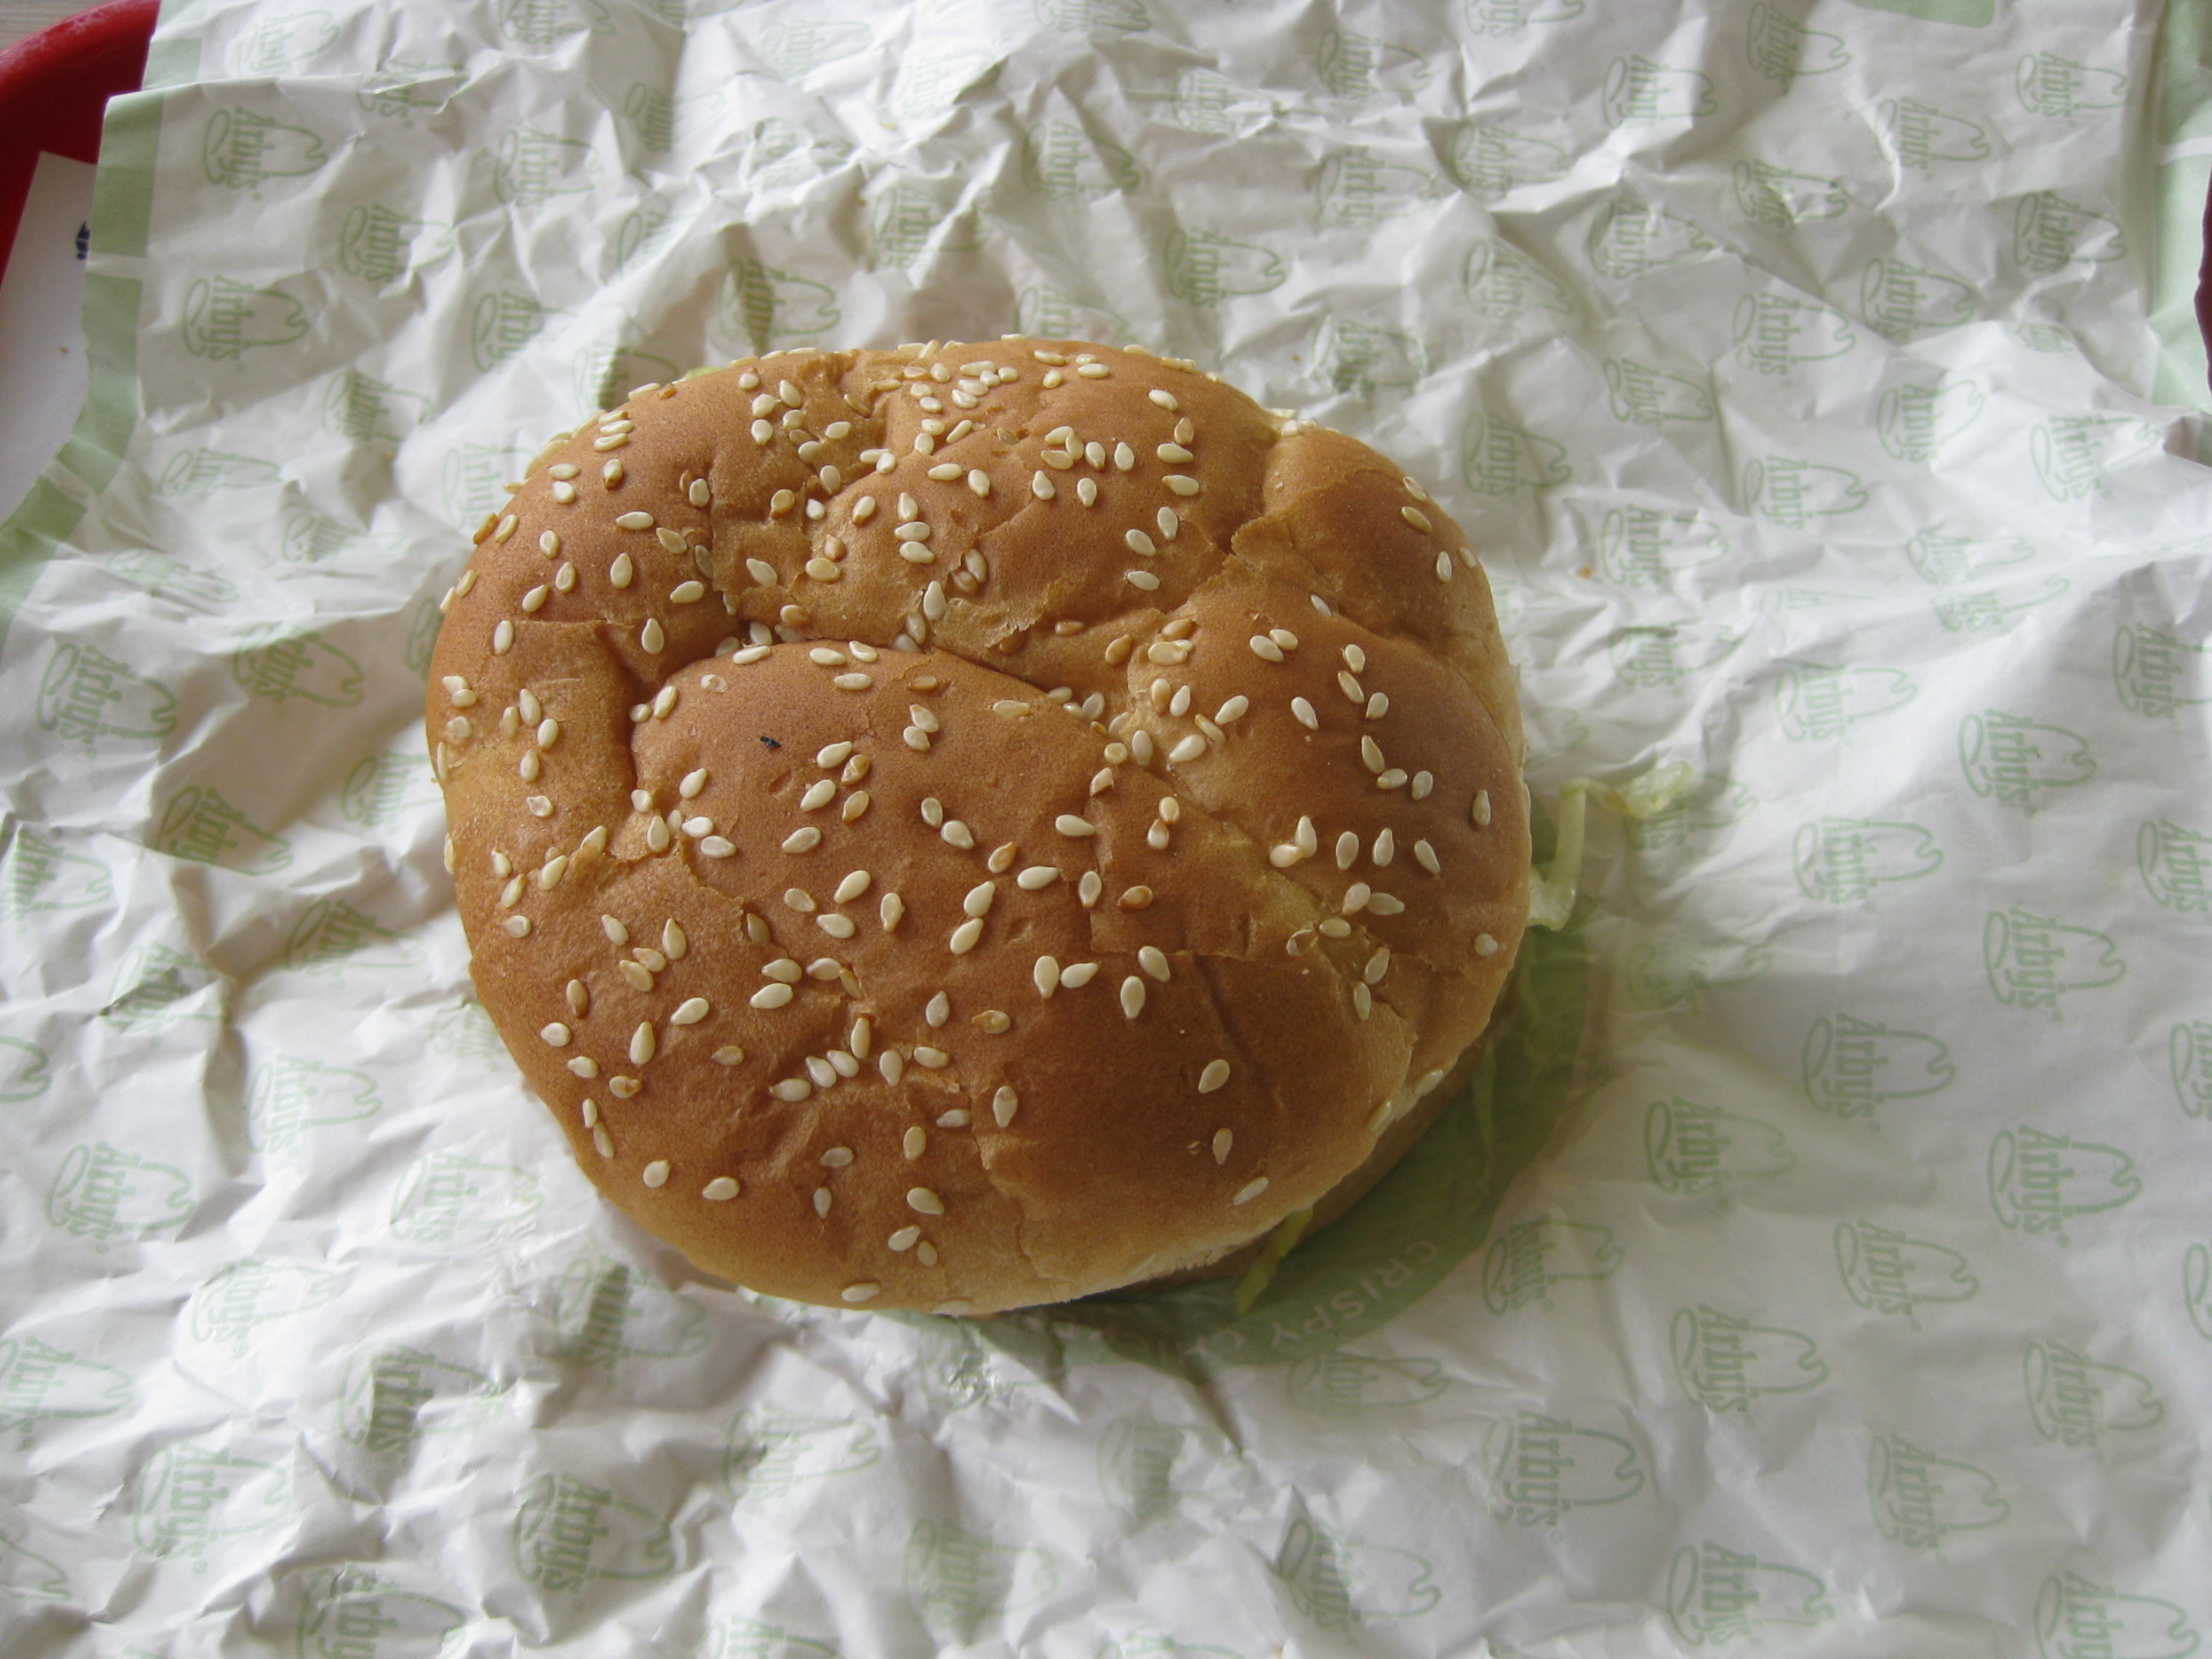burger: (358, 298, 1679, 1352)
